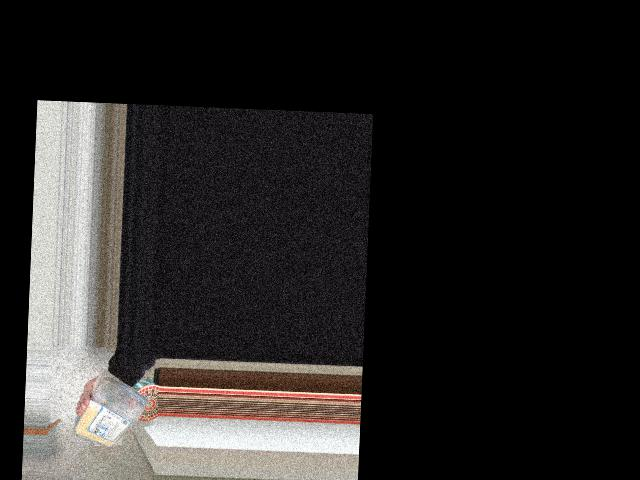cheese: (81, 378, 150, 455)
